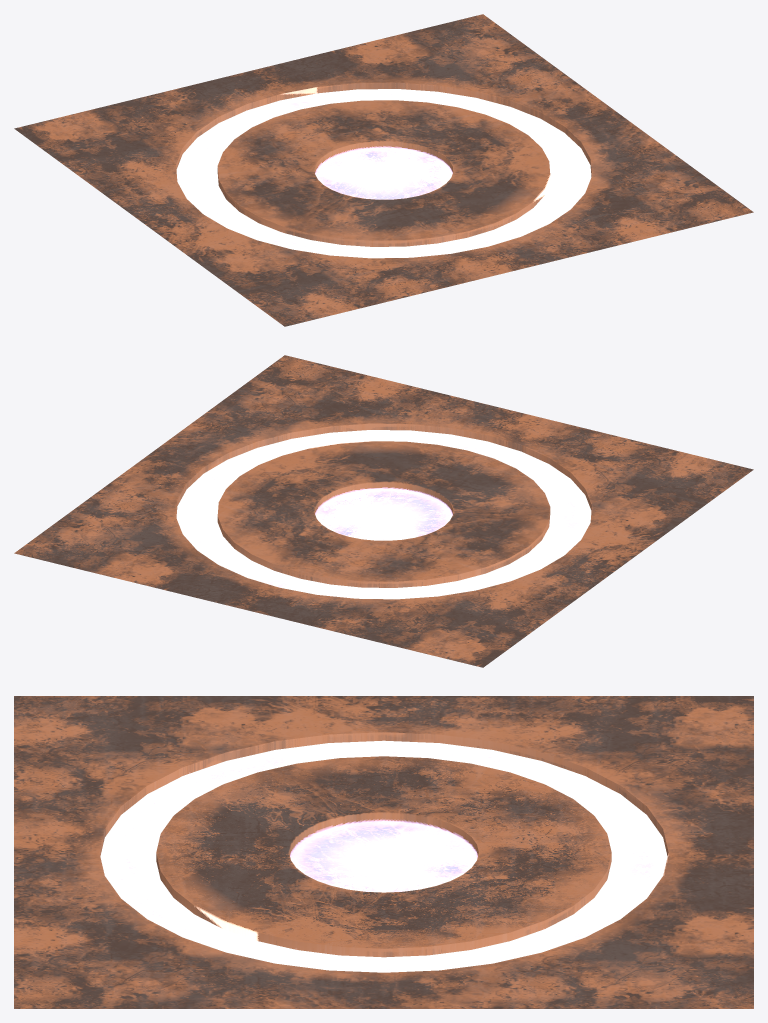
File: jump.glb
3 renders of one model, top to bottom at view 1: azimuth 30°, elevation 25°; view 2: azimuth 150°, elevation 25°; view 3: azimuth 270°, elevation 25°, orthographic. The views are drawn at different scales.
Visible parts, largest first — view 1: tile; view 2: tile; view 3: tile.
Boxes of the visible parts, x1,y1,x2,y2 form: tile: (14,14,753,326); tile: (14,355,753,667); tile: (14,696,753,1008).
Size of the model in its own units: 3.9 by 0.0497 by 3.9.
Materials: 1 (1 with a texture image).
